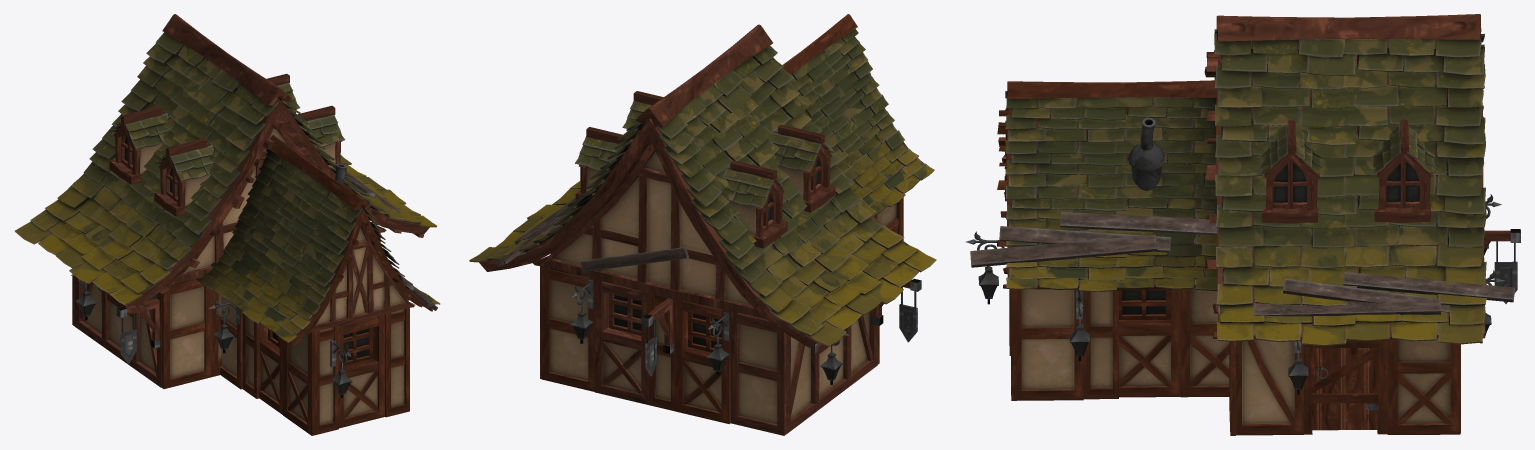
File: Building_1.fbx
3 renders of one model, left to right at view 1: azimuth 30°, elevation 25°; view 2: azimuth 150°, elevation 25°; view 3: azimuth 270°, elevation 25°, orthographic. The views are drawn at different scales.
Parts seen in each view (by area): view 1: Building_1_LOD0; view 2: Building_1_LOD0; view 3: Building_1_LOD0.
Boxes of the visible parts, <box> form: Building_1_LOD0: <box>15,14,440,435</box>; Building_1_LOD0: <box>469,14,936,435</box>; Building_1_LOD0: <box>965,14,1520,435</box>.
Size of what is drawn, in the model's own units: 1516 by 1232 by 1754.
Materials: 1 (1 with a texture image).
